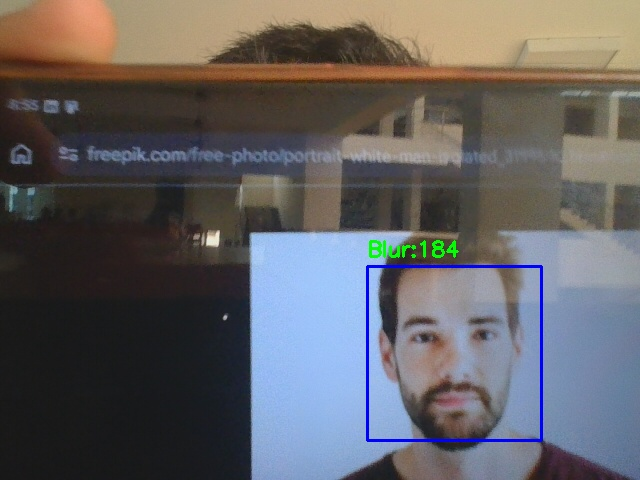fake: (367, 266, 541, 440)
